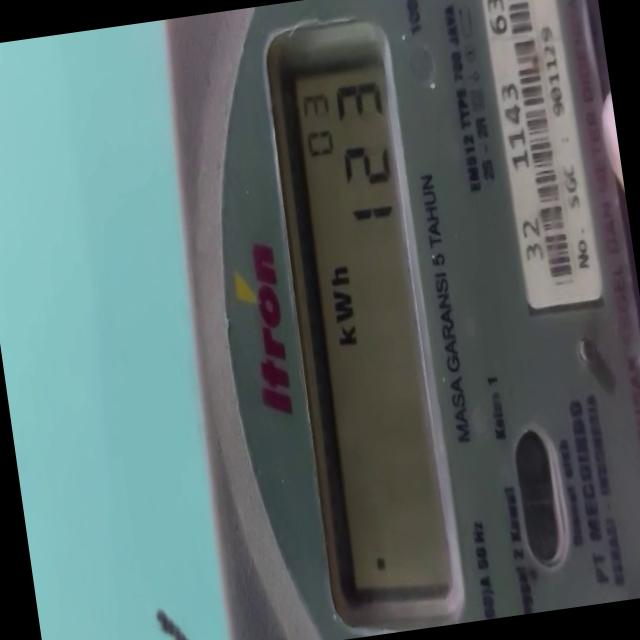LCD: (245, 8, 474, 633)
